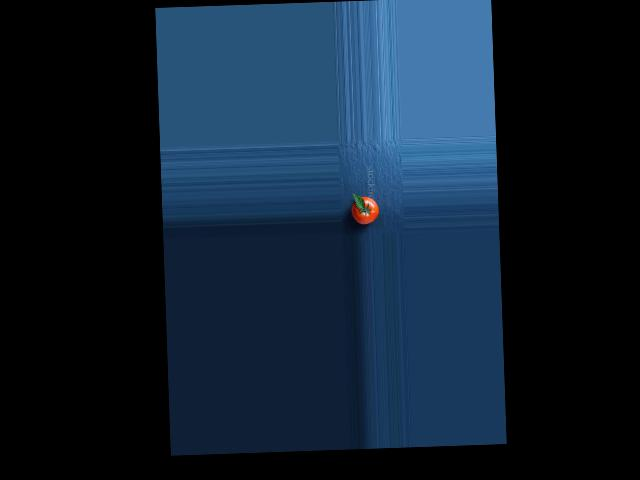tomato: (351, 196, 378, 224)
